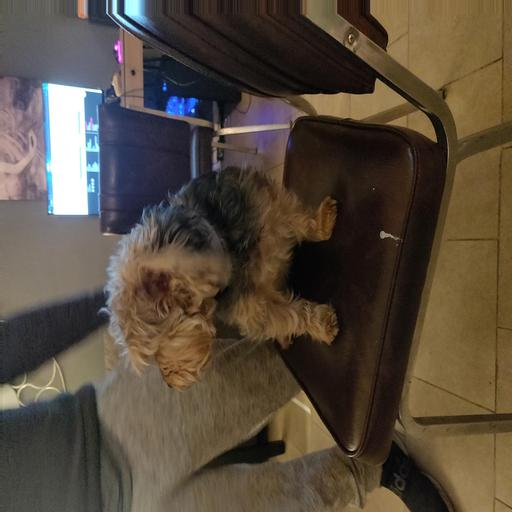dog: (102, 149, 347, 394)
